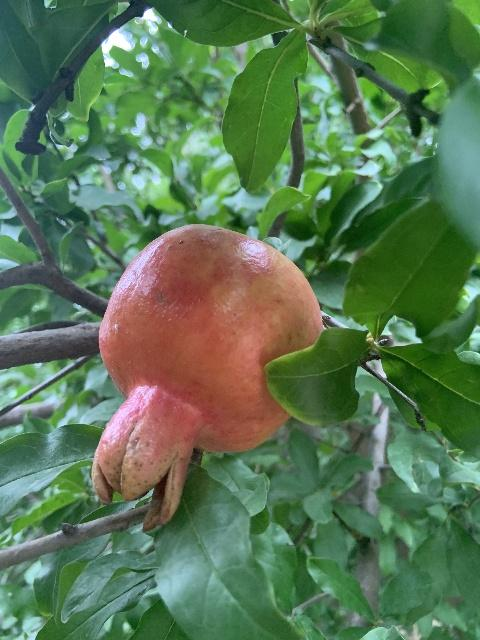ripe: (93, 223, 319, 530)
